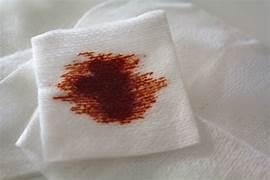cotton: (43, 1, 268, 178), (77, 0, 269, 154), (78, 1, 268, 153), (32, 11, 198, 160), (0, 0, 97, 179), (17, 116, 269, 179), (0, 0, 82, 179), (44, 118, 268, 178), (175, 19, 269, 153), (45, 123, 269, 179), (190, 40, 269, 156), (0, 0, 101, 79), (0, 0, 102, 56), (0, 50, 35, 177), (0, 0, 81, 54), (0, 61, 36, 178), (16, 108, 45, 175), (16, 109, 42, 169), (5, 81, 35, 127), (0, 49, 31, 81), (23, 175, 46, 179)
